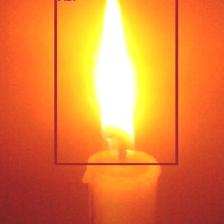fire: (54, 0, 177, 165)
